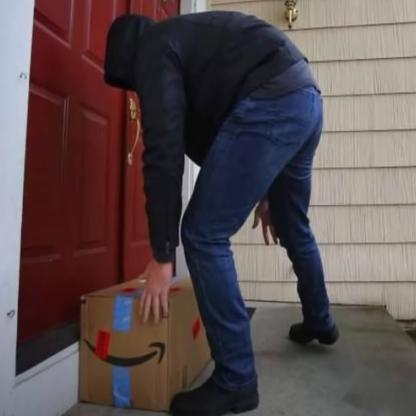package: (77, 276, 222, 412)
